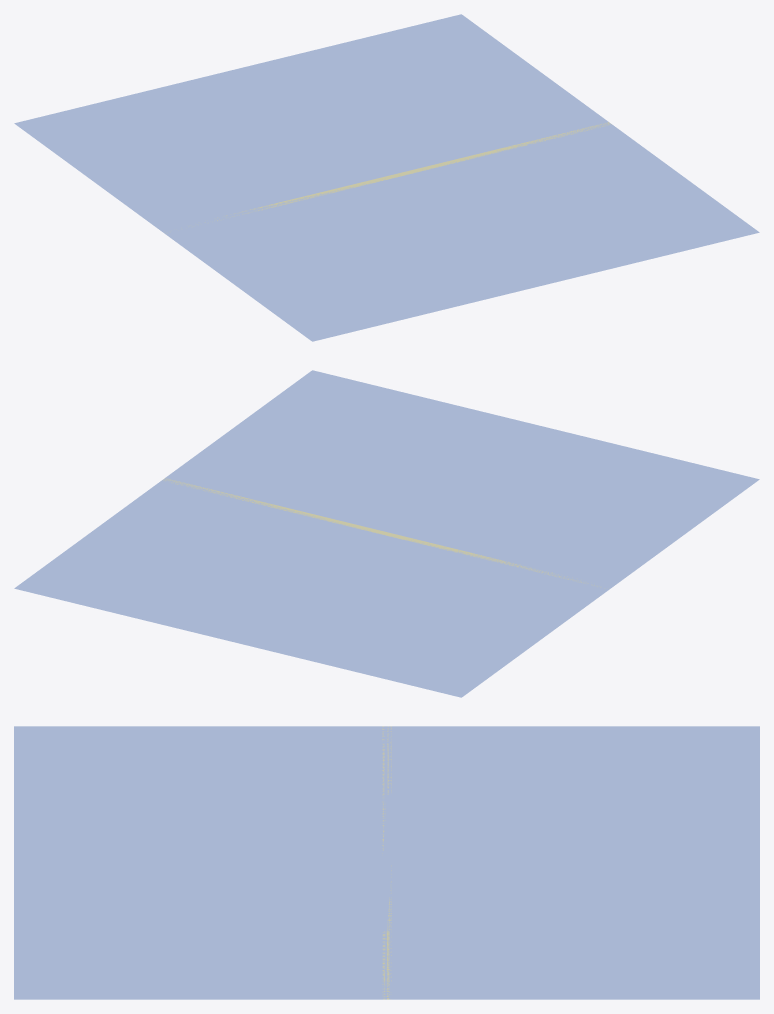
Rendered from polygon-prism.glb.
3 renders of one model, top to bottom at view 1: azimuth 30°, elevation 25°; view 2: azimuth 150°, elevation 25°; view 3: azimuth 270°, elevation 25°, orthographic. The views are drawn at different scales.
Parts seen in each view (by area): view 1: polygon_prism, polygon_base; view 2: polygon_prism, polygon_base; view 3: polygon_prism, polygon_base.
Boxes of the visible parts, <box> form: polygon_prism: <box>14,14,759,341</box>; polygon_base: <box>217,122,611,220</box>; polygon_prism: <box>14,370,759,697</box>; polygon_base: <box>163,478,594,585</box>; polygon_prism: <box>14,726,759,999</box>; polygon_base: <box>382,726,391,999</box>.
Bounding box in the file's own units: 1.31 × 0 × 1.51.
